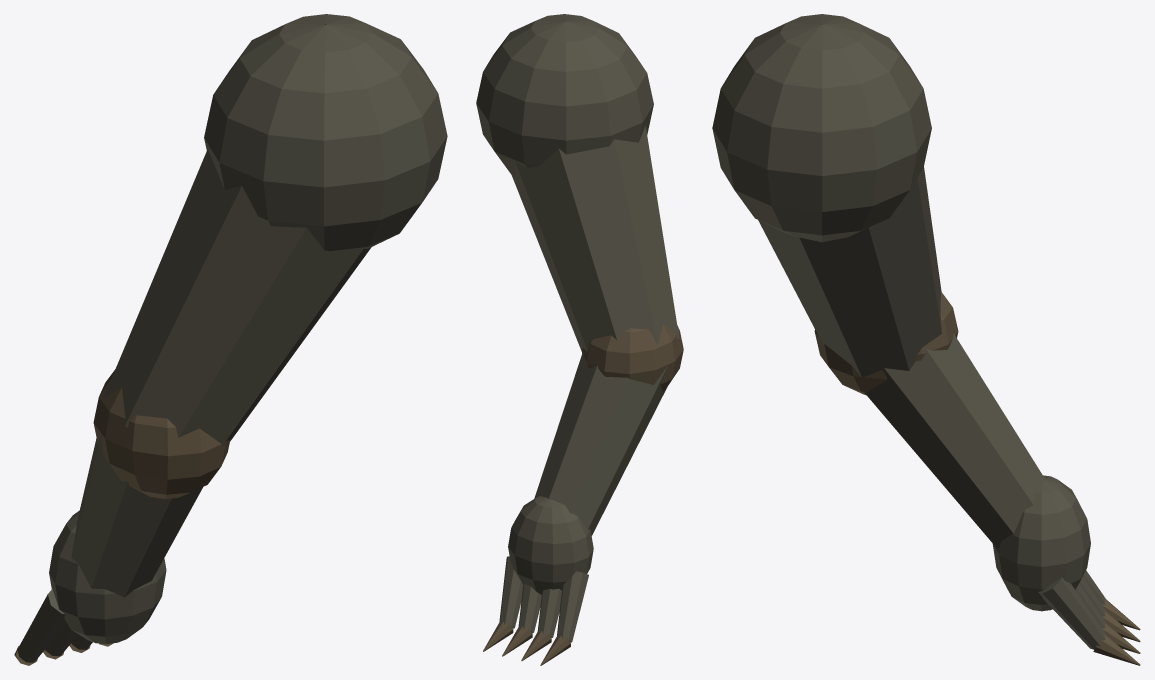
Rendered from left_claw.obj.
3 renders of one model, left to right at view 1: azimuth 30°, elevation 25°; view 2: azimuth 150°, elevation 25°; view 3: azimuth 270°, elevation 25°, orthographic. The views are drawn at different scales.
Size of the model in its own units: 0.412 by 0.9739 by 0.5655.
